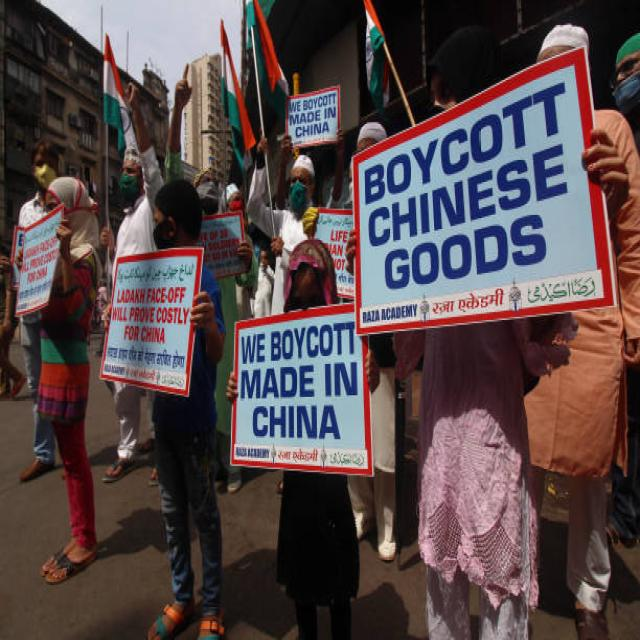civilian: (418, 314, 576, 638), (147, 260, 225, 638), (37, 177, 99, 582), (276, 471, 358, 638), (105, 61, 163, 281), (248, 155, 313, 260), (431, 27, 499, 111), (104, 381, 151, 480), (284, 240, 338, 312), (153, 179, 201, 249), (18, 143, 56, 224), (21, 408, 53, 480), (21, 311, 40, 403), (106, 303, 111, 339)
